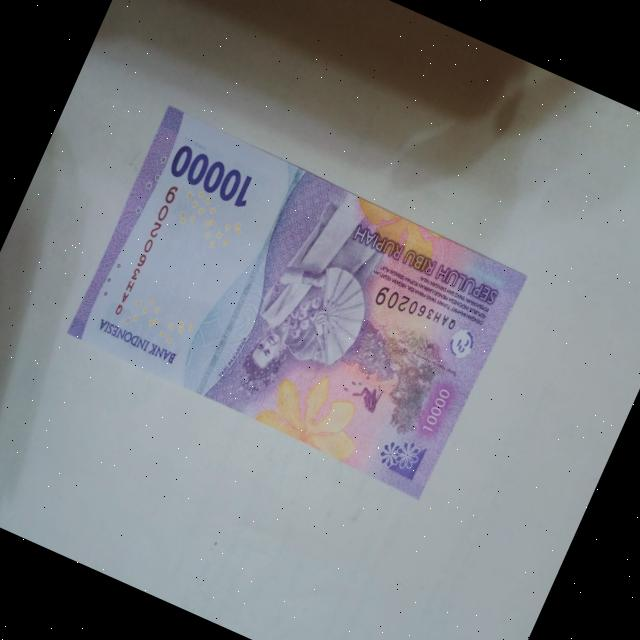10K: (52, 92, 542, 520)
